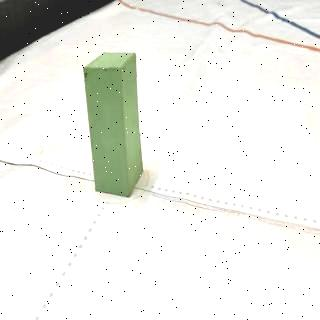greenbox: (82, 52, 144, 196)
